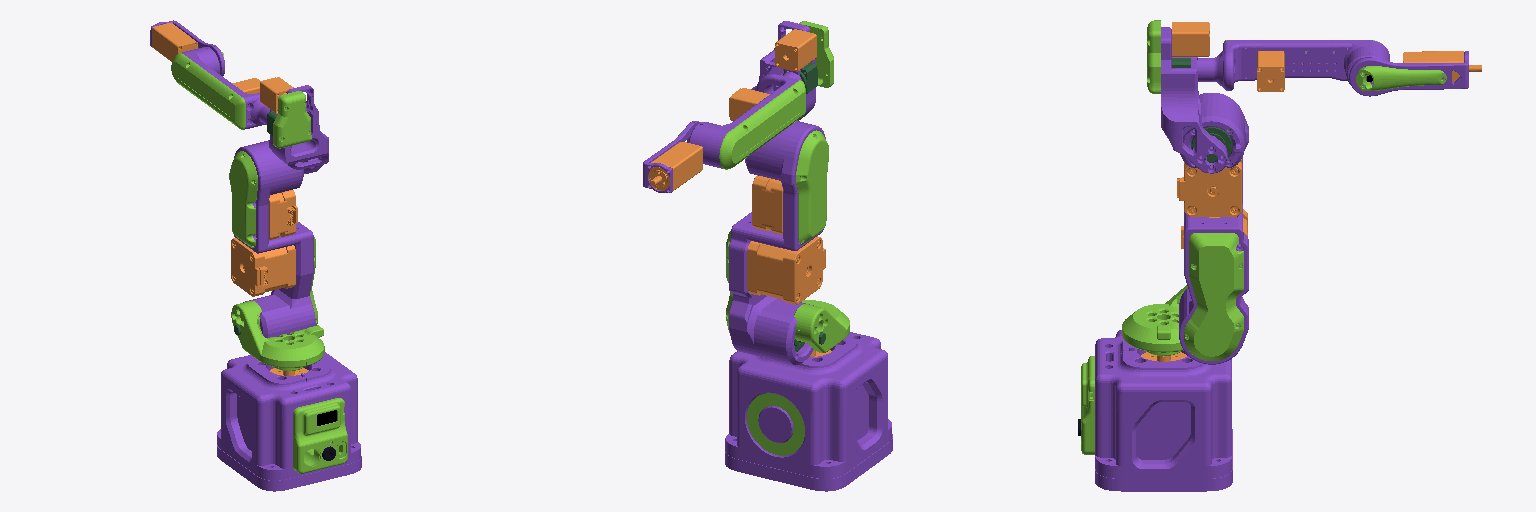
The robot description file, URDF, robot "Robot6DOF":
<?xml version="1.0"?>
<!-- created with Phobos 1.0.1 "Capricious Choutengan" -->
  <robot name="Robot6DOF">

    <link name="link1">
      <inertial>
        <origin xyz="0 0 0" rpy="0 0 0"/>
        <mass value="0.141"/>
        <inertia ixx="0.00012" ixy="0" ixz="0" iyy="2e-05" iyz="0" izz="2e-05"/>
      </inertial>
      <visual name="Main_Joint_1">
        <origin xyz="0 0 0.0095" rpy="1.5708 0 0"/>
        <geometry>
          <mesh filename="package://test_pkg/meshes/dae/Main_Joint_1.dae" scale="1.0 1.0 1.0"/>
        </geometry>
        <material name="GreenLight"/>
      </visual>
      <collision name="Main_Joint_1">
        <origin xyz="0 0 0.0095" rpy="1.5708 0 0"/>
        <geometry>
          <mesh filename="package://test_pkg/meshes/dae/Main_Joint_1.001.dae" scale="1.0 1.0 1.0"/>
        </geometry>
      </collision>
    </link>

    <link name="link2">
      <inertial>
        <origin xyz="0 0 0" rpy="0 0 0"/>
        <mass value="0.327"/>
        <inertia ixx="0.001" ixy="0" ixz="0" iyy="0.001" iyz="0" izz="0.001"/>
      </inertial>
      <visual name="Main_CSF-8-30-1U_v2">
        <origin xyz="0 0.146 0.02269" rpy="0 -1.5708 0"/>
        <geometry>
          <mesh filename="package://test_pkg/meshes/dae/Main_CSF-8-30-1U_v2.dae" scale="1.0 1.0 1.0"/>
        </geometry>
        <material name="GreenDark"/>
      </visual>
      <visual name="Main_CSF-8-30-1U_v2_1">
        <origin xyz="-1e-05 0 0.01996" rpy="0 -1.5708 0"/>
        <geometry>
          <mesh filename="package://test_pkg/meshes/dae/Main_CSF-8-30-1U_v2_1.dae" scale="1.0 1.0 1.0"/>
        </geometry>
        <material name="GreenDark"/>
      </visual>
      <visual name="Main_CaseJoint2_3">
        <origin xyz="0 0 0" rpy="0 -1.5708 0"/>
        <geometry>
          <mesh filename="package://test_pkg/meshes/dae/Main_CaseJoint2_3.dae" scale="1.0 1.0 1.0"/>
        </geometry>
        <material name="VioletLight"/>
      </visual>
      <visual name="Main_CaseOutside_1">
        <origin xyz="0.0018 0.12238 -0.00859" rpy="0 -1.5708 0"/>
        <geometry>
          <mesh filename="package://test_pkg/meshes/dae/Main_CaseOutside_1.dae" scale="1.0 1.0 1.0"/>
        </geometry>
        <material name="GreenLight"/>
      </visual>
      <visual name="Main_CaseOutside_2">
        <origin xyz="0.00263 0.03311 0.05513" rpy="0 -1.5708 0"/>
        <geometry>
          <mesh filename="package://test_pkg/meshes/dae/Main_CaseOutside_2.dae" scale="1.0 1.0 1.0"/>
        </geometry>
        <material name="GreenLight"/>
      </visual>
      <visual name="Main_Nema17_Slim">
        <origin xyz="0.00082 0.10757 0.01994" rpy="0 -1.5708 0"/>
        <geometry>
          <mesh filename="package://test_pkg/meshes/dae/Main_Nema17_Slim.dae" scale="1.0 1.0 1.0"/>
        </geometry>
        <material name="Orange"/>
      </visual>
      <visual name="Main_Nema17_StepperMotor">
        <origin xyz="0.00481 0.05535 0.01494" rpy="0 -1.5708 0"/>
        <geometry>
          <mesh filename="package://test_pkg/meshes/dae/Main_Nema17_StepperMotor.dae" scale="1.0 1.0 1.0"/>
        </geometry>
        <material name="Orange"/>
      </visual>
      <collision name="Main_CaseJoint2_3">
        <origin xyz="0 0 0" rpy="0 -1.5708 0"/>
        <geometry>
          <mesh filename="package://test_pkg/meshes/dae/Main_CaseJoint2_3.001.dae" scale="1.0 1.0 1.0"/>
        </geometry>
      </collision>
    </link>

    <link name="link3">
      <inertial>
        <origin xyz="0 0 0" rpy="0 0 0"/>
        <mass value="0.105"/>
        <inertia ixx="0.001" ixy="0" ixz="0" iyy="0.001" iyz="0" izz="0.001"/>
      </inertial>
      <visual name="Main_CSF-5-30-1U_v2">
        <origin xyz="-0.0214 0.052 -0.02015" rpy="0 -1.5708 0"/>
        <geometry>
          <mesh filename="package://test_pkg/meshes/dae/Main_CSF-5-30-1U_v2.dae" scale="1.0 1.0 1.0"/>
        </geometry>
        <material name="GreenDark"/>
      </visual>
      <visual name="Main_CaseJoint4">
        <!--origin xyz="0 0 0" rpy="0 -1.5708 0"/-->
        <origin xyz="0 0 0.012" rpy="0 -1.5708 0"/>
        <geometry>
          <mesh filename="package://test_pkg/meshes/dae/Main_CaseJoint4.dae" scale="1.0 1.0 1.0"/>
        </geometry>
        <material name="VioletLight"/>
      </visual>
      <visual name="Main_CaseOutside_3">
        <origin xyz="-0.0429 0.06027 -0.01998" rpy="0 -1.5708 0"/>
        <geometry>
          <mesh filename="package://test_pkg/meshes/dae/Main_CaseOutside_3.dae" scale="1.0 1.0 1.0"/>
        </geometry>
        <material name="GreenLight"/>
      </visual>
      <visual name="Main_PK513PA-H50S_v2">
        <origin xyz="-0.01629 0.0762 -0.02015" rpy="0 -1.5708 0"/>
        <geometry>
          <mesh filename="package://test_pkg/meshes/dae/Main_PK513PA-H50S_v2.dae" scale="1.0 1.0 1.0"/>
        </geometry>
        <material name="Orange"/>
      </visual>
      <collision name="Main_CaseJoint4">
        <origin xyz="0 0 0.012" rpy="0 -1.5708 0"/>
        <geometry>
          <mesh filename="package://test_pkg/meshes/dae/Main_CaseJoint4.001.dae" scale="1.0 1.0 1.0"/>
        </geometry>
      </collision>
    </link>

    <link name="link4">
      <inertial>
        <origin xyz="0 0 0" rpy="0 0 0"/>
        <mass value="0.082"/>
        <inertia ixx="0.00101" ixy="0" ixz="0" iyy="0.00101" iyz="0" izz="0.00101"/>
      </inertial>
      <visual name="Main_CSF-5-30-1U_v2_1">
        <origin xyz="0.0026 0 0.127" rpy="0 3.14159 0"/>
        <geometry>
          <mesh filename="package://test_pkg/meshes/dae/Main_CSF-5-30-1U_v2_1.dae" scale="1.0 1.0 1.0"/>
        </geometry>
        <material name="Black"/>
      </visual>
      <visual name="Main_CaseJoint_5_1">
        <origin xyz="0 0 0" rpy="0 3.14159 0"/>
        <geometry>
          <mesh filename="package://test_pkg/meshes/dae/Main_CaseJoint_5_1.dae" scale="1.0 1.0 1.0"/>
        </geometry>
        <material name="VioletLight"/>
      </visual>
      <visual name="Main_CaseJoint_5_2">
        <origin xyz="0.00941 0.00049 0.096" rpy="0 3.14159 0"/>
        <geometry>
          <mesh filename="package://test_pkg/meshes/dae/Main_CaseJoint_5_2.dae" scale="1.0 1.0 1.0"/>
        </geometry>
        <material name="VioletLight"/>
      </visual>
      <visual name="Main_CaseOutside_4">
        <origin xyz="0.02242 0.00045 0.07361" rpy="0 3.14159 0"/>
        <geometry>
          <mesh filename="package://test_pkg/meshes/dae/Main_CaseOutside_4.dae" scale="1.0 1.0 1.0"/>
        </geometry>
        <material name="GreenLight"/>
      </visual>
      <visual name="Main_PK513PA-H50S_v2_1">
        <origin xyz="-0.00251 0 0.0549" rpy="0 3.14159 0"/>
        <geometry>
          <mesh filename="package://test_pkg/meshes/dae/Main_PK513PA-H50S_v2_1.dae" scale="1.0 1.0 1.0"/>
        </geometry>
        <material name="Orange"/>
      </visual>
      <collision name="Main_CaseJoint_5_1">
        <origin xyz="0 0 0" rpy="0 3.14159 0"/>
        <geometry>
          <mesh filename="package://test_pkg/meshes/dae/Main_CaseJoint_5_1.001.dae" scale="1.0 1.0 1.0"/>
        </geometry>
      </collision>
      <collision name="Main_CaseJoint_5_2">
        <origin xyz="0.00941 0.00049 0.096" rpy="0 3.14159 0"/>
        <geometry>
          <mesh filename="package://test_pkg/meshes/dae/Main_CaseJoint_5_2.001.dae" scale="1.0 1.0 1.0"/>
        </geometry>
      </collision>
    </link>

    <link name="link5">
      <inertial>
        <origin xyz="0 0 0" rpy="0 0 0"/>
        <mass value="0.018"/>
        <inertia ixx="2e-05" ixy="0" ixz="0" iyy="2e-05" iyz="0" izz="2e-05"/>
      </inertial>
      <visual name="Main_CaseJoint_6">
        <origin xyz="0 0 0" rpy="0 -1.5708 0"/>
        <geometry>
          <mesh filename="package://test_pkg/meshes/dae/Main_CaseJoint_6.dae" scale="1.0 1.0 1.0"/>
        </geometry>
        <material name="VioletLight"/>
      </visual>
      <visual name="Main_CaseOutside_5">
        <origin xyz="0.01892 0.00032 0.01025" rpy="0 -1.5708 0"/>
        <geometry>
          <mesh filename="package://test_pkg/meshes/dae/Main_CaseOutside_5.dae" scale="1.0 1.0 1.0"/>
        </geometry>
        <material name="GreenLight"/>
      </visual>
      <visual name="Main_PK513PA-H50S_v1">
        <origin xyz="0.04794 0.00061 -0.0068" rpy="0 -1.5708 0"/>
        <geometry>
          <mesh filename="package://test_pkg/meshes/dae/Main_PK513PA-H50S_v1.dae" scale="1.0 1.0 1.0"/>
        </geometry>
        <material name="Orange"/>
      </visual>
      <collision name="Main_CaseJoint_6">
        <origin xyz="0 0 0" rpy="0 -1.5708 0"/>
        <geometry>
          <mesh filename="package://test_pkg/meshes/dae/Main_CaseJoint_6.001.dae" scale="1.0 1.0 1.0"/>
        </geometry>
      </collision>
    </link>

    <link name="link6">
      <inertial>
        <origin xyz="0 0 0" rpy="0 0 0"/>
        <mass value="0.004"/>
        <inertia ixx="2e-05" ixy="0" ixz="0" iyy="2e-05" iyz="0" izz="2e-05"/>
      </inertial>
      <visual name="Gripper">
        <origin xyz="0 0 0" rpy="0 0 0"/>
        <geometry>
          <mesh filename="package://test_pkg/meshes/dae/Gripper.dae" scale="0.25 0.25 0.25"/>
        </geometry>
        <material name="Black"/>
      </visual>
      <collision name="Gripper">
        <origin xyz="0 -3e-05 0.01258" rpy="0 0 0"/>
        <geometry>
          <cylinder radius="0.00628" length="0.02522"/>
        </geometry>
      </collision>
    </link>

    <link name="root">
      <inertial>
        <origin xyz="0 0 0" rpy="0 0 0"/>
        <mass value="0.911"/>
        <inertia ixx="0.00228" ixy="0" ixz="0" iyy="2e-05" iyz="0" izz="2e-05"/>
      </inertial>
      <visual name="Main_Base">
        <origin xyz="0 0 0" rpy="1.5708 0 0"/>
        <geometry>
          <mesh filename="package://test_pkg/meshes/dae/Main_Base.dae" scale="1.0 1.0 1.0"/>
        </geometry>
        <material name="VioletLight"/>
      </visual>
      <visual name="Main_BotonLED">
        <origin xyz="-0.01182 -0.05151 -0.01961" rpy="1.5708 0 0"/>
        <geometry>
          <mesh filename="package://test_pkg/meshes/dae/Main_BotonLED.dae" scale="1.0 1.0 1.0"/>
        </geometry>
        <material name="GreenLight"/>
      </visual>
      <visual name="Main_CRK543AP-H50">
        <origin xyz="0 -0.00319 -0.00114" rpy="1.5708 0 0"/>
        <geometry>
          <mesh filename="package://test_pkg/meshes/dae/Main_CRK543AP-H50.dae" scale="1.0 1.0 1.0"/>
        </geometry>
        <material name="Orange"/>
      </visual>
      <visual name="Main_CaseButtons">
        <origin xyz="-0.0022 -0.05152 -0.0145" rpy="1.5708 0 0"/>
        <geometry>
          <mesh filename="package://test_pkg/meshes/dae/Main_CaseButtons.dae" scale="1.0 1.0 1.0"/>
        </geometry>
        <material name="GreenLight"/>
      </visual>
      <visual name="Main_ExtraPart1">
        <origin xyz="0 0.04315 -0.00422" rpy="1.5708 0 0"/>
        <geometry>
          <mesh filename="package://test_pkg/meshes/dae/Main_ExtraPart1.dae" scale="1.0 1.0 1.0"/>
        </geometry>
        <material name="GreenLight"/>
      </visual>
      <visual name="Main_Screen">
        <origin xyz="0.00144 -0.06111 0.01422" rpy="1.5708 0 0"/>
        <geometry>
          <mesh filename="package://test_pkg/meshes/dae/Main_Screen.dae" scale="1.0 1.0 1.0"/>
        </geometry>
      </visual>
      <visual name="Main_Socket_5V">
        <origin xyz="0.00464 -0.06078 -0.0195" rpy="1.5708 0 0"/>
        <geometry>
          <mesh filename="package://test_pkg/meshes/dae/Main_Socket_5V.dae" scale="1.0 1.0 1.0"/>
        </geometry>
        <material name="VioletDark"/>
      </visual>
      <visual name="Main_Soporte">
        <origin xyz="0 -0.00016 -0.04472" rpy="1.5708 0 0"/>
        <geometry>
          <mesh filename="package://test_pkg/meshes/dae/Main_Soporte.dae" scale="1.0 1.0 1.0"/>
        </geometry>
        <material name="VioletLight"/>
      </visual>
      <collision name="Main_Base">
        <origin xyz="0 0 0" rpy="1.5708 0 0"/>
        <geometry>
          <mesh filename="package://test_pkg/meshes/dae/Main_Base.001.dae" scale="1.0 1.0 1.0"/>
        </geometry>
      </collision>
    </link>

    <joint name="link1" type="revolute">
      <origin xyz="0 -0.00275 0.03278" rpy="0 0 0"/>
      <parent link="root"/>
      <child link="link1"/>
      <axis xyz="0 0 1.0"/>
      <limit lower="-3.14159" upper="3.14159" effort="3.5" velocity="52.35988"/>
    </joint>

    <joint name="link2" type="revolute">
      <origin xyz="-0.0175 0.035 0.035" rpy="1.5708 0 1.5708"/>
      <parent link="link1"/>
      <child link="link2"/>
      <axis xyz="0 0 1.0"/>
      <limit lower="-1.5708" upper="1.29154" effort="0.3" velocity="34.90659"/>
    </joint>

    <joint name="link3" type="revolute">
      <origin xyz="0 0.146 0.03765" rpy="0 0 0"/>
      <parent link="link2"/>
      <child link="link3"/>
      <axis xyz="0 0 1.0"/>
      <limit lower="-1.5708" upper="0.73304" effort="0.17" velocity="26.17994"/>
    </joint>

    <joint name="link4" type="revolute">
      <origin xyz="-0.012 0.052 -0.02015" rpy="0 1.5708 0"/>
      <parent link="link3"/>
      <child link="link4"/>
      <axis xyz="0 0 1.0"/>
      <limit lower="-3.14159" upper="3.14159" effort="0.4" velocity="2.61799"/>
    </joint>

    <joint name="link5" type="revolute">
      <origin xyz="-0.0068 0 0.127" rpy="0 -1.5708 0"/>
      <parent link="link4"/>
      <child link="link5"/>
      <axis xyz="0 0 1.0"/>
      <limit lower="-2.35619" upper="2.35619" effort="0.4" velocity="2.61799"/>
    </joint>

    <joint name="link6" type="revolute">
      <origin xyz="0.07739 0.00077 -0.0068" rpy="0 1.5708 0"/>
      <parent link="link5"/>
      <child link="link6"/>
      <axis xyz="0 0 1.0"/>
      <limit lower="-3.14159" upper="3.14159" effort="0.4" velocity="78.53982"/>
    </joint>

    <material name="Black">
      <color rgba="0 0 0 1.0"/>
    </material>

    <material name="GreenDark">
      <color rgba="0.24706 0.42745 0.30588 1.0"/>
    </material>

    <material name="GreenLight">
      <color rgba="0.5451 0.83137 0.31372 1.0"/>
    </material>

    <material name="Orange">
      <color rgba="0.97647 0.61569 0.32157 1.0"/>
    </material>

    <material name="VioletDark">
      <color rgba="0.11372 0.10196 0.18431 1.0"/>
    </material>

    <material name="VioletLight">
      <color rgba="0.58824 0.37255 0.83137 1.0"/>
    </material>

  </robot>

--- Render facts (derived) ---
The picture shows the robot from 3 angles, left to right: view 1: azimuth 30°, elevation 25°; view 2: azimuth 150°, elevation 25°; view 3: azimuth 270°, elevation 25°; orthographic projection.
Model Robot6DOF with 7 links and 6 joints (6 revolute), rooted at root, posed all joints at 0.
Visible links, largest first — view 1: root, link2, link3, link4, link1, link5; view 2: root, link2, link4, link3, link5, link1; view 3: root, link2, link3, link4, link5, link1.
Link boxes in pixels (x1=…): root: x1=217, y1=352, x2=361, y2=491; link2: x1=229, y1=140, x2=317, y2=337; link3: x1=260, y1=77, x2=328, y2=173; link4: x1=171, y1=47, x2=269, y2=129; link1: x1=231, y1=301, x2=324, y2=370; link5: x1=150, y1=20, x2=224, y2=75; root: x1=725, y1=332, x2=892, y2=491; link2: x1=726, y1=121, x2=828, y2=364; link4: x1=689, y1=72, x2=805, y2=169; link3: x1=751, y1=21, x2=833, y2=120; link5: x1=643, y1=121, x2=702, y2=192; link1: x1=794, y1=300, x2=849, y2=352; root: x1=1078, y1=330, x2=1232, y2=491; link2: x1=1177, y1=93, x2=1248, y2=364; link3: x1=1147, y1=20, x2=1227, y2=173; link4: x1=1197, y1=40, x2=1389, y2=91; link5: x1=1349, y1=51, x2=1481, y2=96; link1: x1=1122, y1=285, x2=1187, y2=355.
Size in the robot's own frame: 0.101 by 0.2948 by 0.3507 metres.
Meshes: 29 distinct files referenced, 27 mesh visuals loaded (27 Collada DAE); not drawn: 2 (reference not matched to a file when rendering).